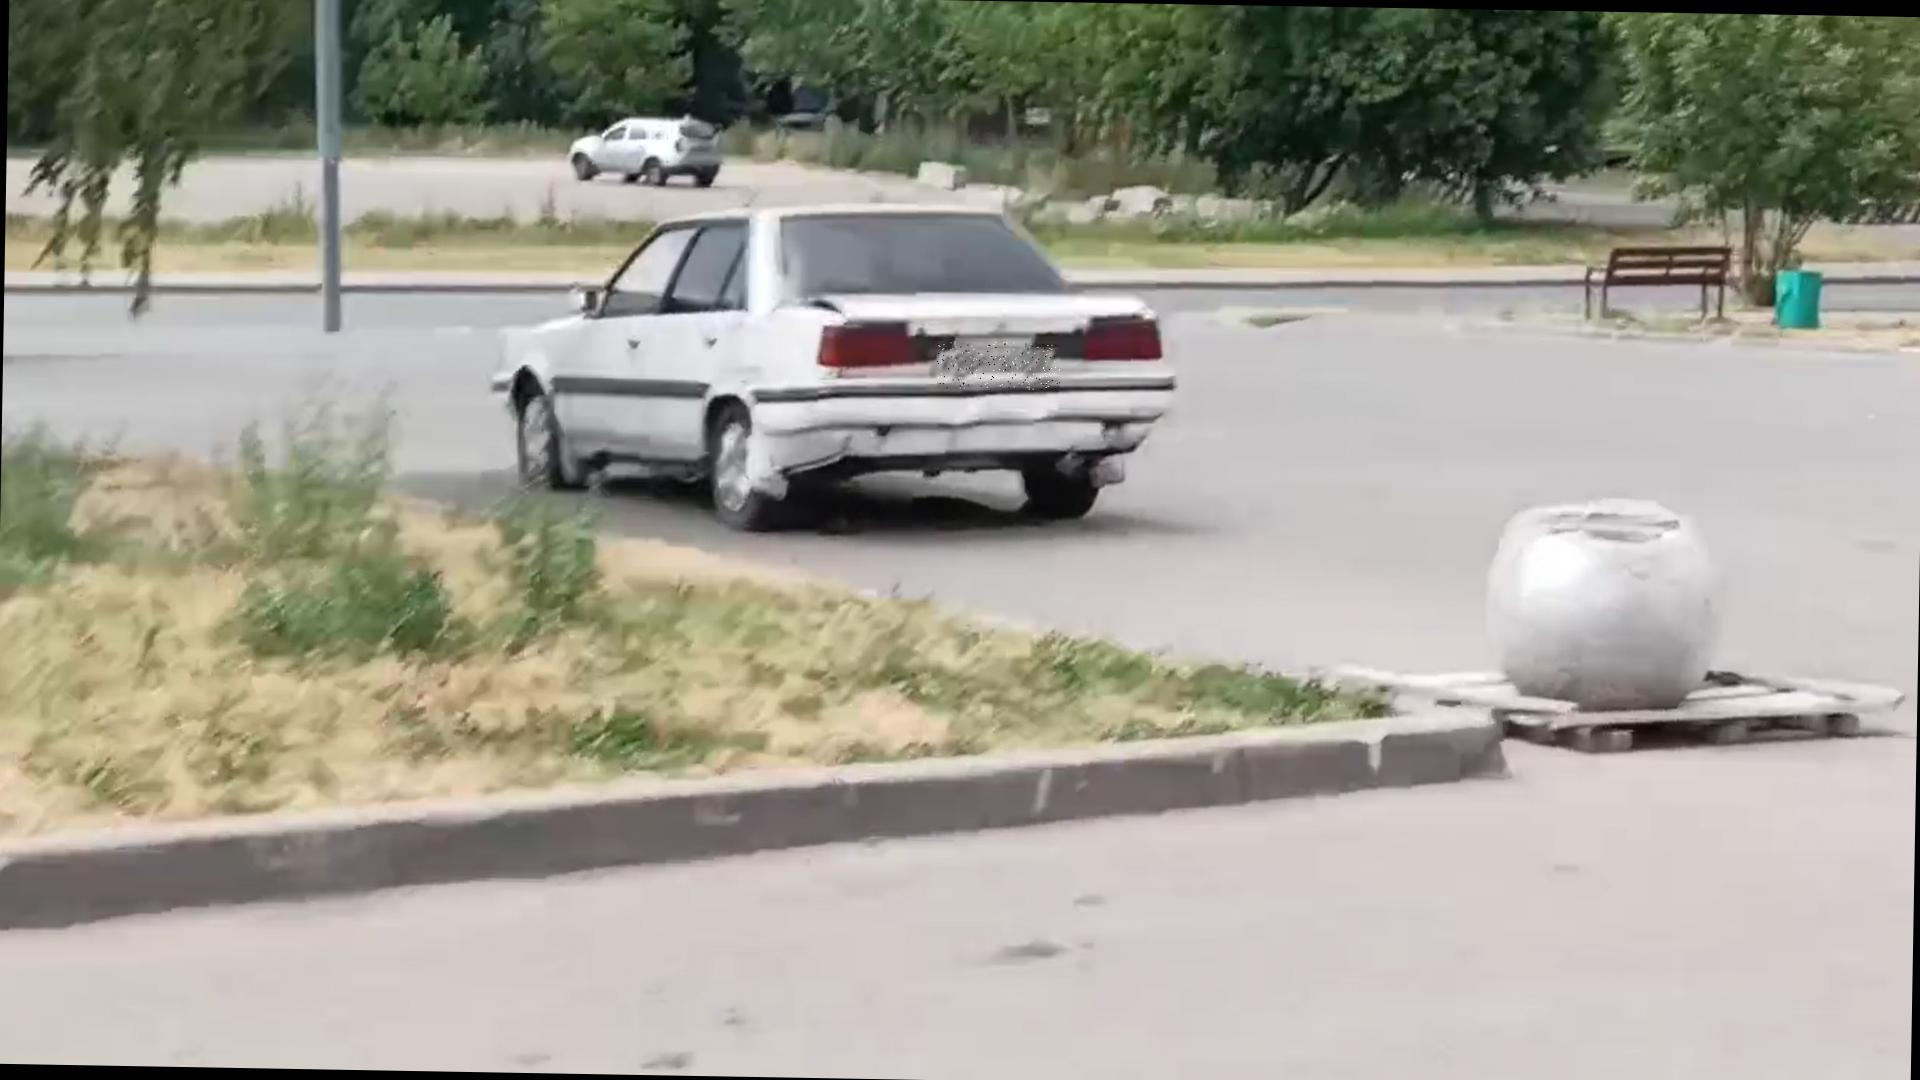plate: (939, 343, 1063, 392)
